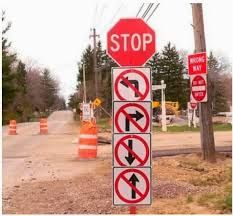stop_sign: (105, 17, 155, 66)
